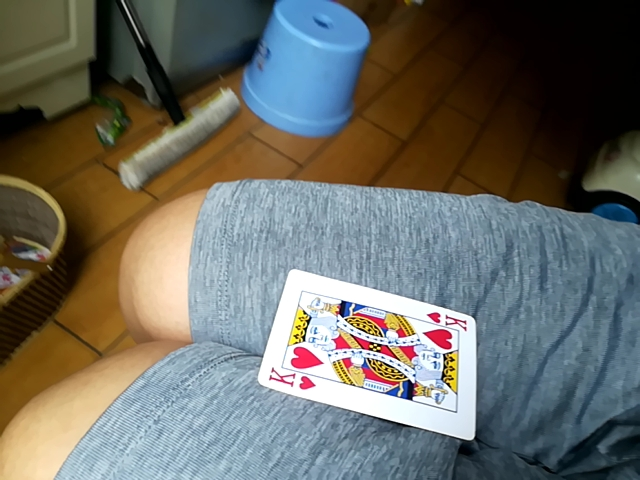hx k: (256, 271, 481, 443)
